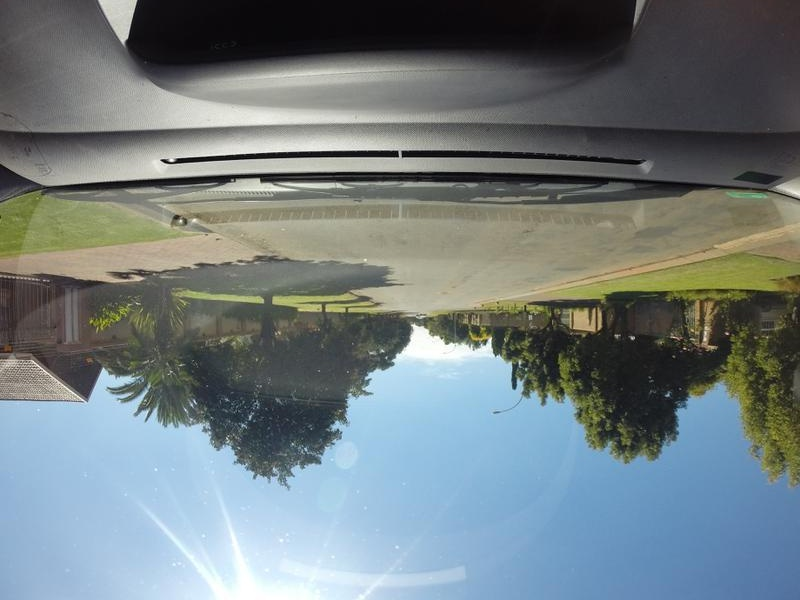pothole: (523, 225, 535, 236)
